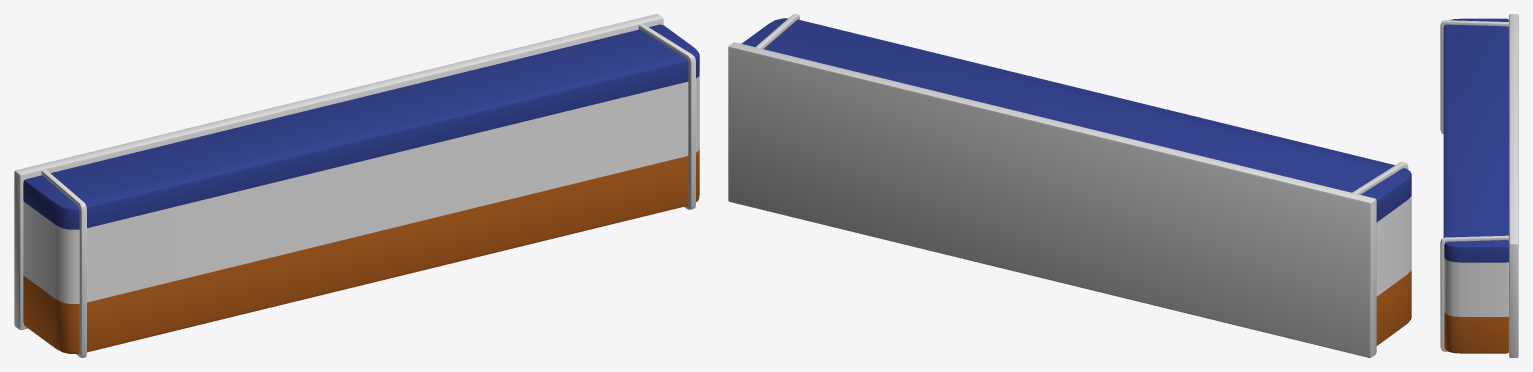
File: SM_led_board_01.fbx
3 renders of one model, left to right at view 1: azimuth 30°, elevation 25°; view 2: azimuth 150°, elevation 25°; view 3: azimuth 270°, elevation 25°, orthographic. The views are drawn at different scales.
Visible parts, largest first — view 1: Object32354; view 2: Object32354; view 3: Object32354.
Boxes of the visible parts, x1=… form: Object32354: x1=14, y1=14, x2=699, y2=357; Object32354: x1=728, y1=14, x2=1411, y2=357; Object32354: x1=1440, y1=14, x2=1518, y2=357.
Bounding box in the file's own units: 359 × 83.33 × 51.42.
